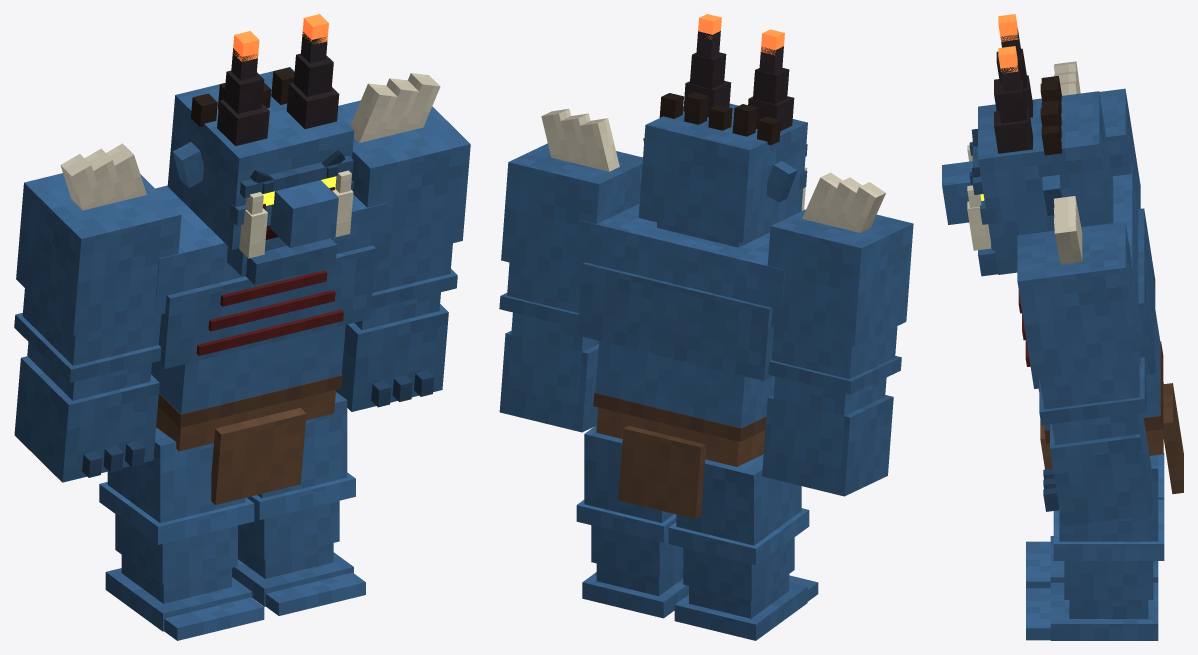
File: ogre_base_v3_evo2.glb
The picture shows the model from 3 angles, left to right: view 1: azimuth 30°, elevation 25°; view 2: azimuth 150°, elevation 25°; view 3: azimuth 270°, elevation 25°; orthographic projection. The views are drawn at different scales.
Parts seen in each view (by area): view 1: ArmR, Torso, Head, ArmL, LegR, LegL; view 2: Torso, ArmR, ArmL, Head, LegR, LegL; view 3: ArmL, Head, LegL, Torso, ArmR, LegR.
Part boxes in pixels (box(x1,y1,x2,y2)): ArmR: box(14, 143, 181, 482); Torso: box(151, 185, 386, 504); Head: box(167, 14, 354, 285); ArmL: box(336, 73, 470, 411); LegR: box(99, 427, 264, 640); LegL: box(232, 392, 365, 615); Torso: box(575, 203, 784, 518); ArmR: box(762, 172, 913, 496); ArmL: box(499, 108, 642, 432); Head: box(638, 14, 807, 247); LegR: box(668, 454, 818, 640); LegL: box(576, 425, 688, 618); ArmL: box(1017, 196, 1152, 526); Head: box(942, 14, 1113, 276); LegL: box(1026, 455, 1164, 640); Torso: box(1018, 165, 1183, 494); ArmR: box(1054, 61, 1140, 208); LegR: box(1026, 453, 1164, 588).
Bounding box in the file's own units: 1.46 × 2.13 × 0.8306.
28 materials, 28 textured.
